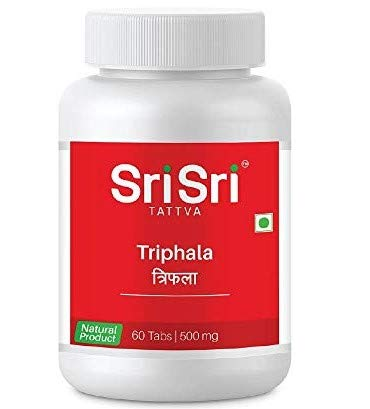SriSri: (111, 160, 249, 215)
Triphala: (137, 245, 212, 264)
